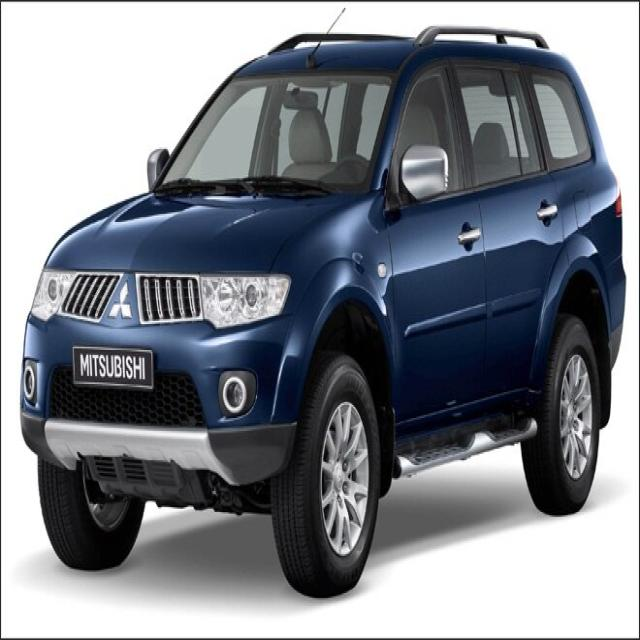light_vehicle: (20, 26, 625, 599)
